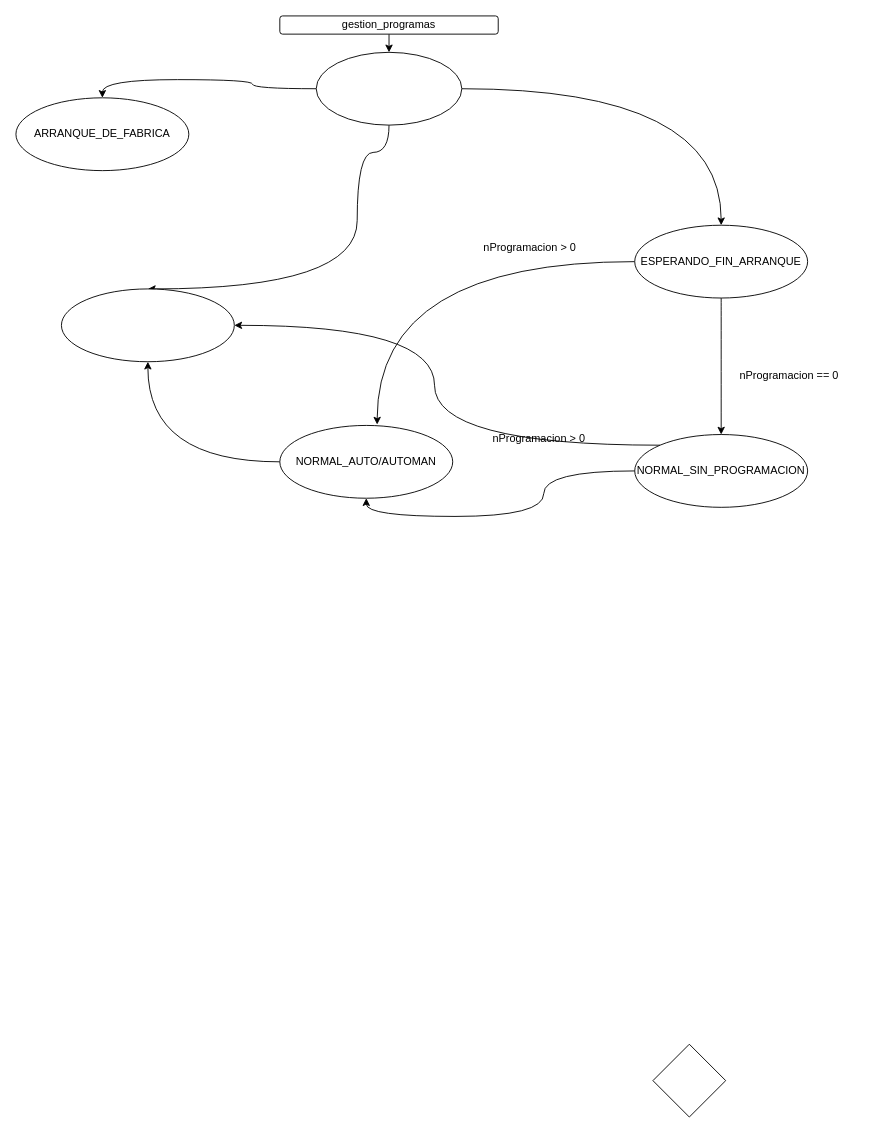
This 869x1133 diagram has some shape labels left out. Each missing label, with the centre of its shape:
NORMAL_ARRANCANDO: [388,88]
UPGRADE_EN_PROGRESO: [147,325]
